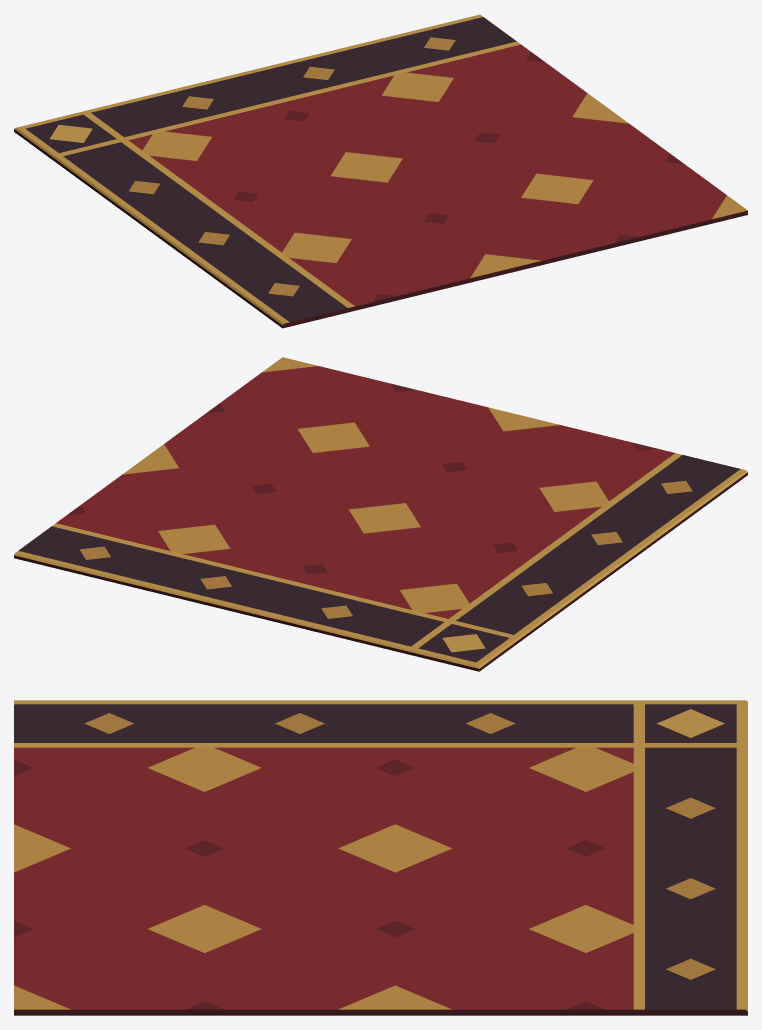
Rendered from carpet_red_corner_A.glb.
The picture shows the model from 3 angles, top to bottom: view 1: azimuth 30°, elevation 25°; view 2: azimuth 150°, elevation 25°; view 3: azimuth 270°, elevation 25°; orthographic projection. The views are drawn at different scales.
Visible parts, largest first — view 1: Item; view 2: Item; view 3: Item.
Part boxes in pixels (<box>): Item: <box>14,14,747,328</box>; Item: <box>14,357,747,671</box>; Item: <box>14,700,747,1015</box>.
Size of the model in its own units: 3.85 by 0.035 by 3.85.
1 material, 1 textured.
